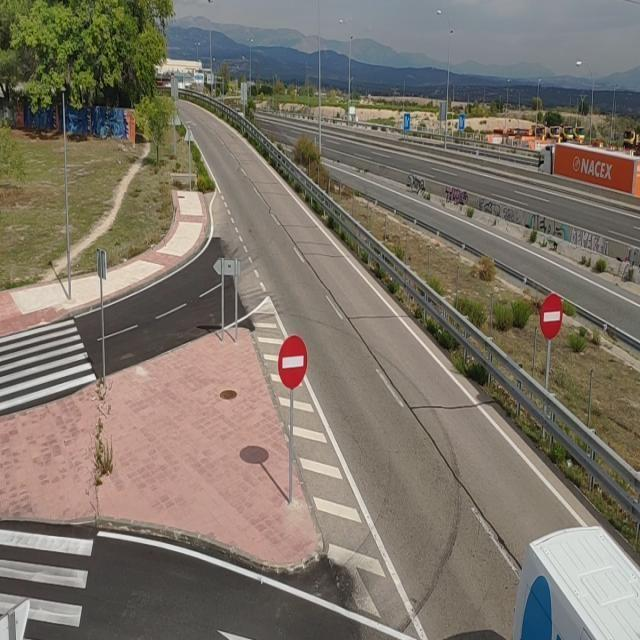Van: (527, 535, 640, 640)
